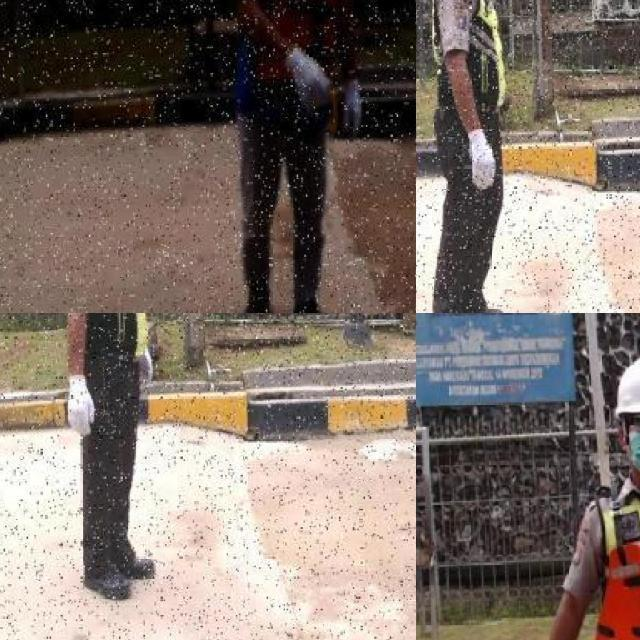apron: (280, 44, 334, 116), (463, 122, 497, 198), (65, 372, 99, 442), (340, 78, 366, 142), (138, 341, 154, 394)
